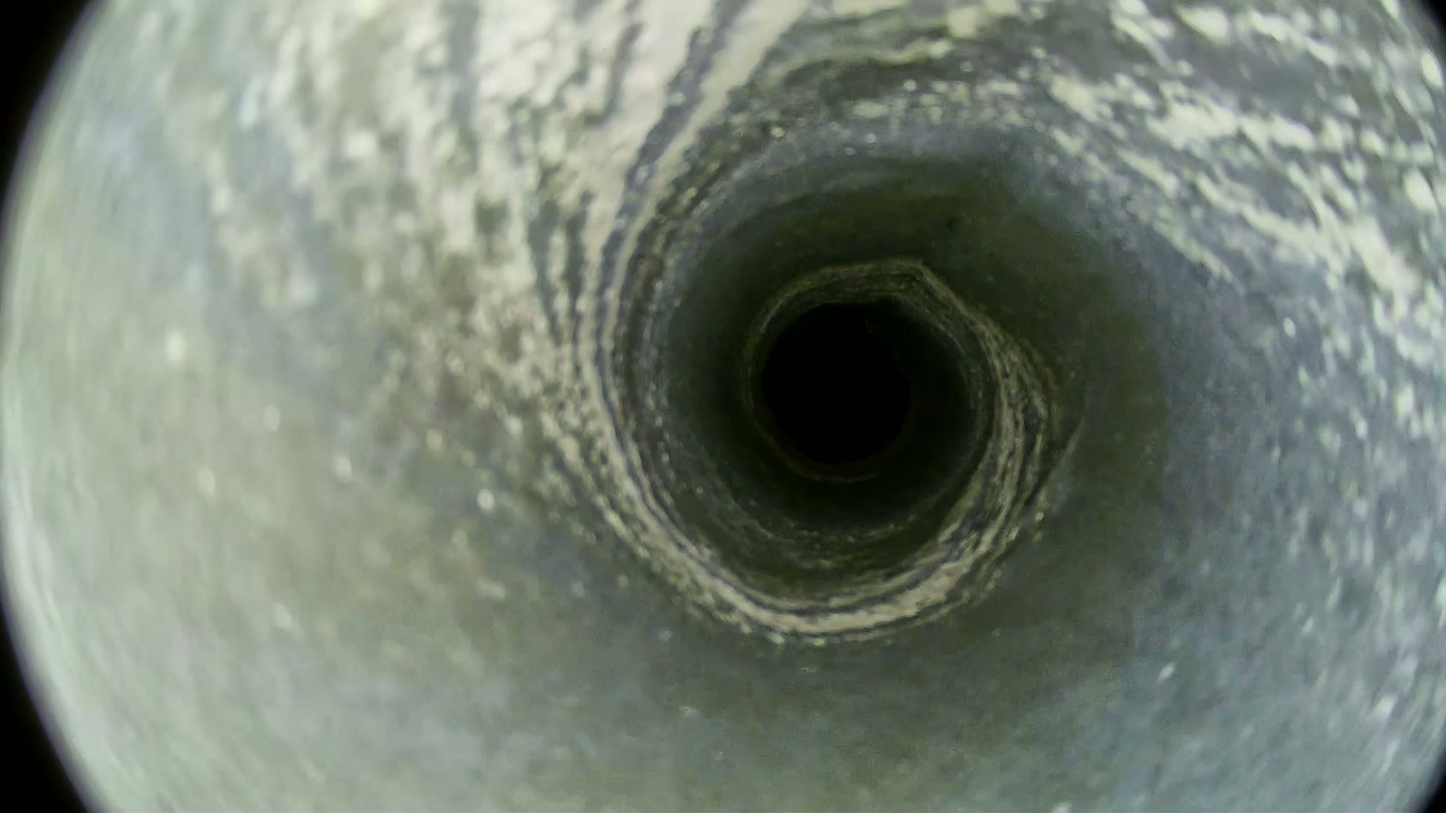hole: (769, 323, 910, 463)
